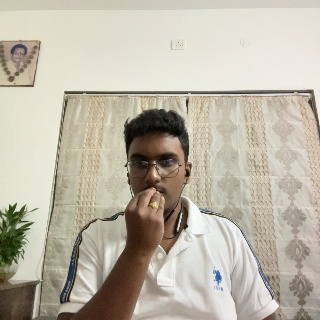Food: (125, 187, 166, 261)
